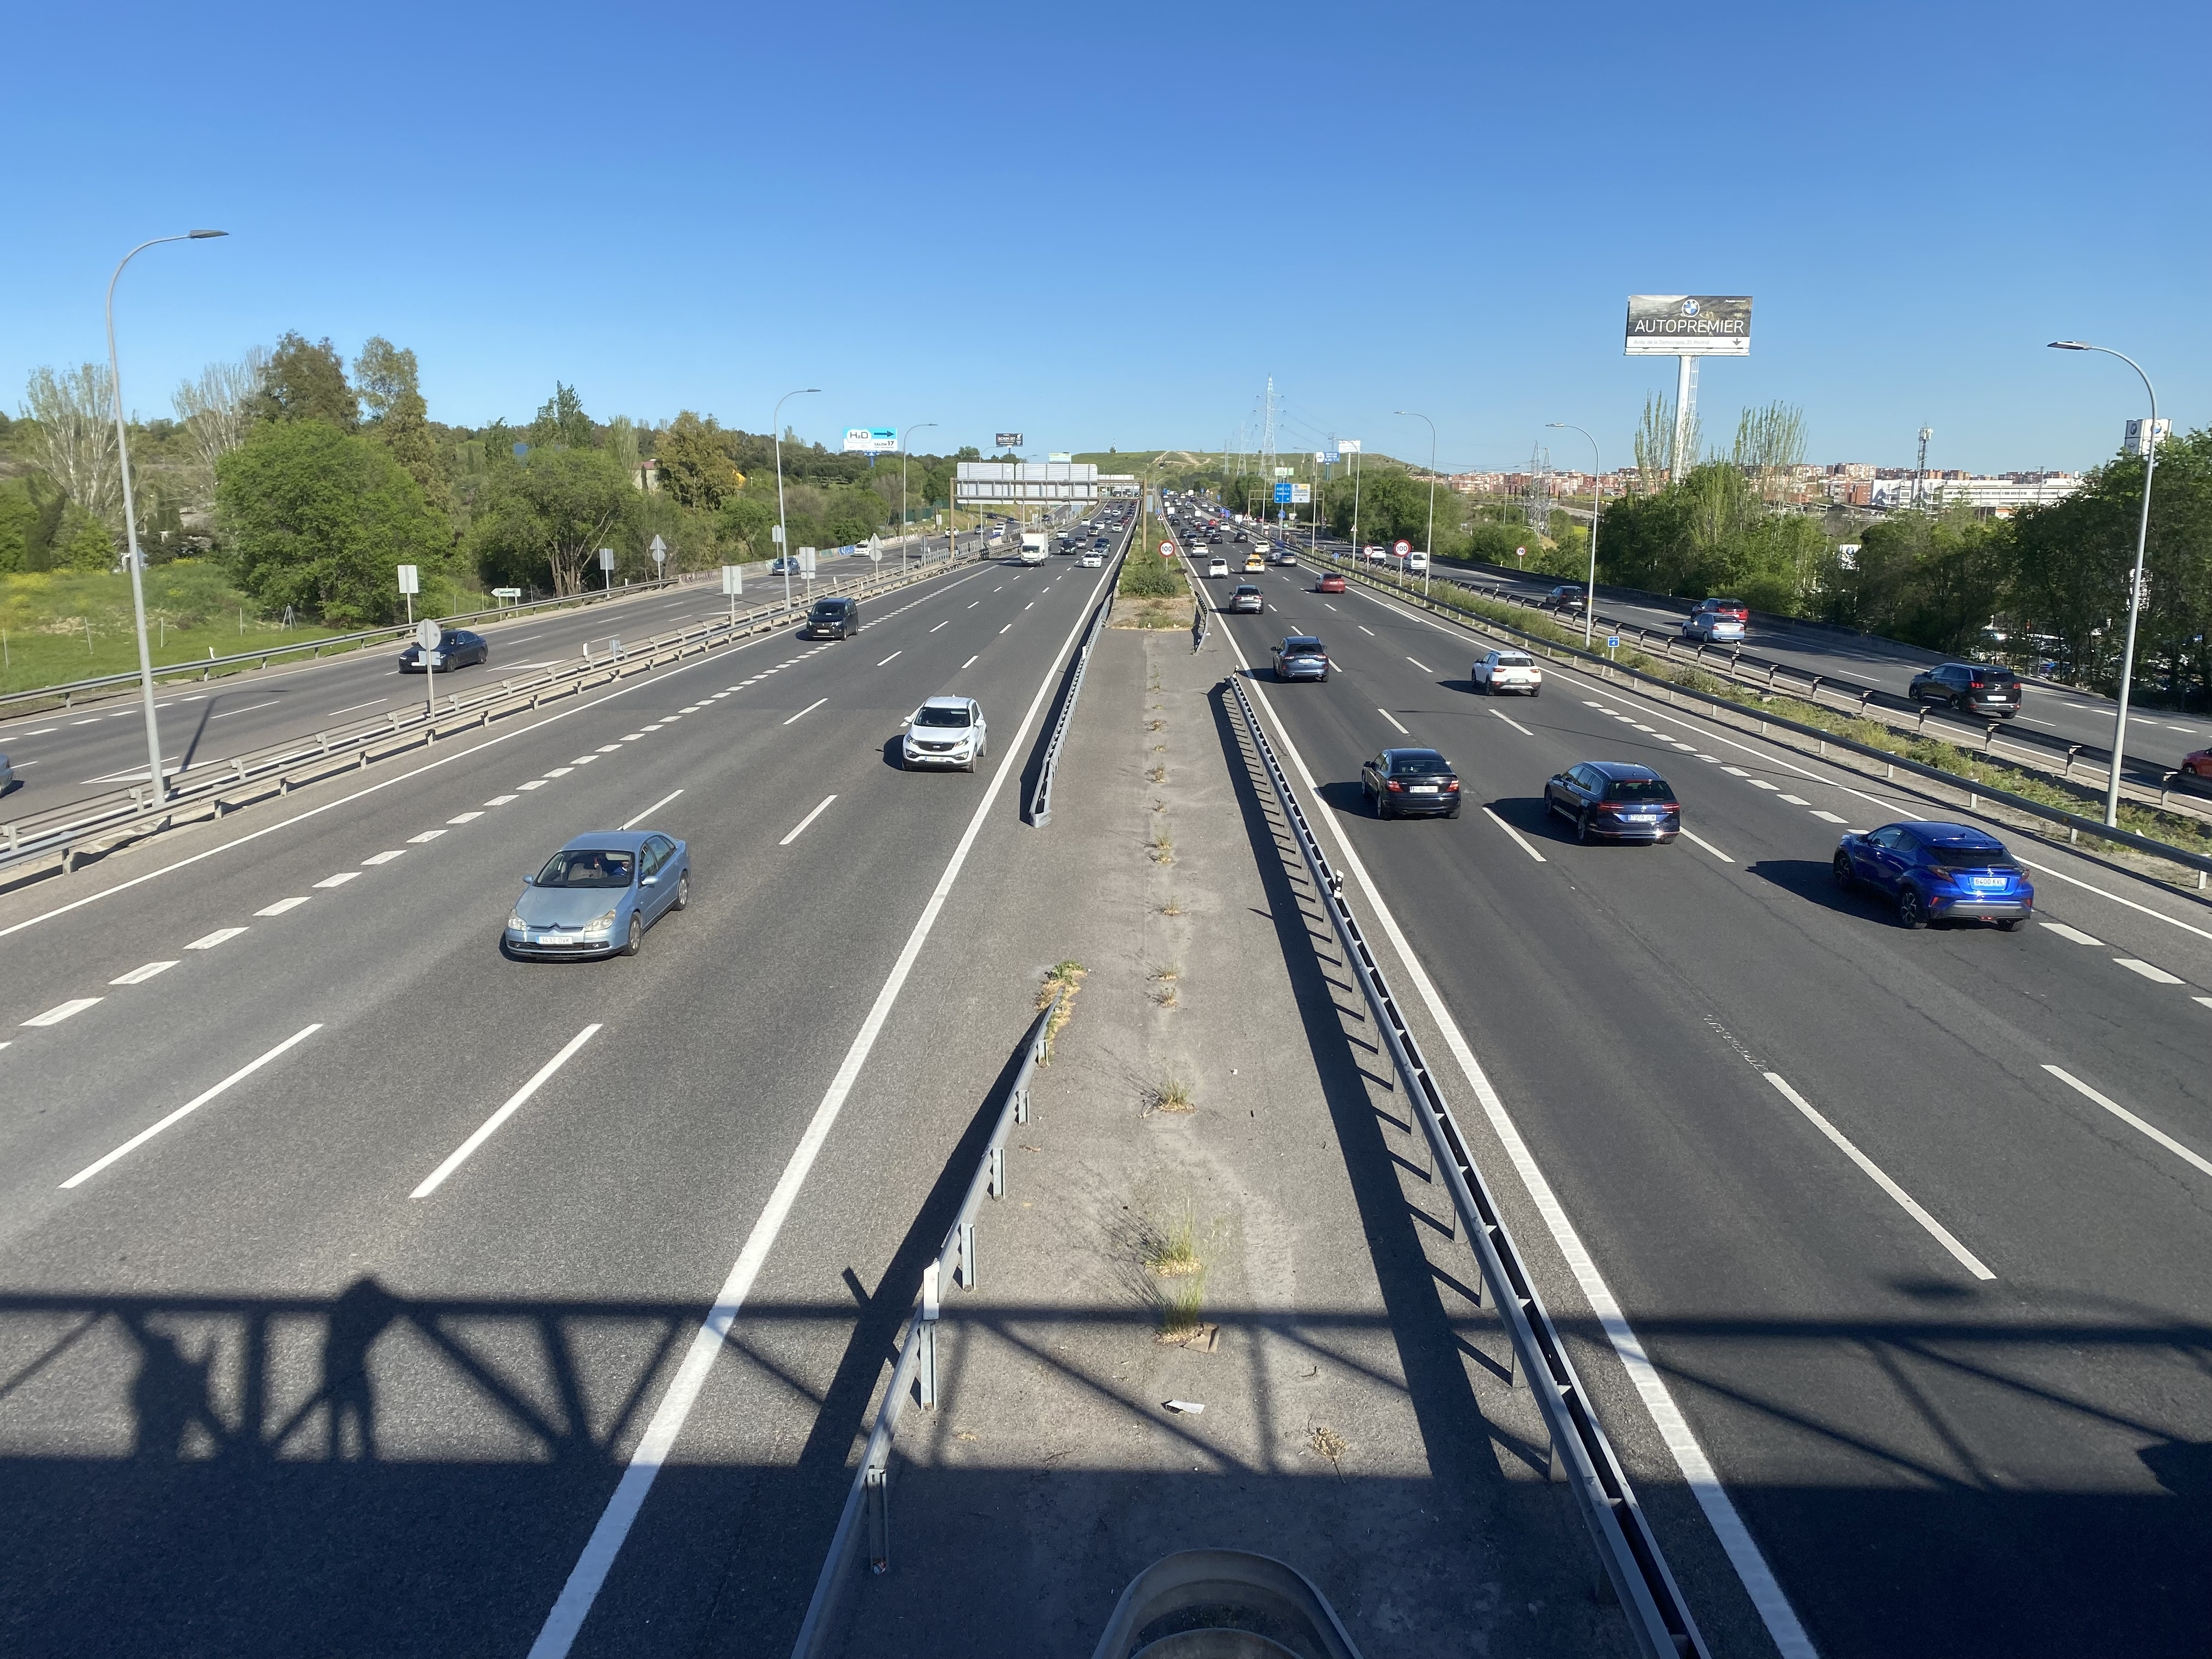cars: (500, 830, 690, 958), (1832, 821, 2033, 929), (1545, 762, 1679, 843), (1362, 748, 1460, 817), (902, 695, 986, 772), (1909, 664, 2020, 718), (1470, 650, 1541, 697), (1681, 599, 1747, 641), (1271, 634, 1329, 681), (803, 598, 859, 638), (1543, 584, 1587, 613), (2179, 746, 2212, 781), (1226, 584, 1264, 613), (1315, 572, 1348, 594), (1242, 552, 1266, 573), (1076, 549, 1103, 568), (1271, 549, 1296, 568), (1364, 545, 1390, 563), (1207, 558, 1230, 577), (1407, 551, 1426, 573), (1160, 540, 1176, 558)
